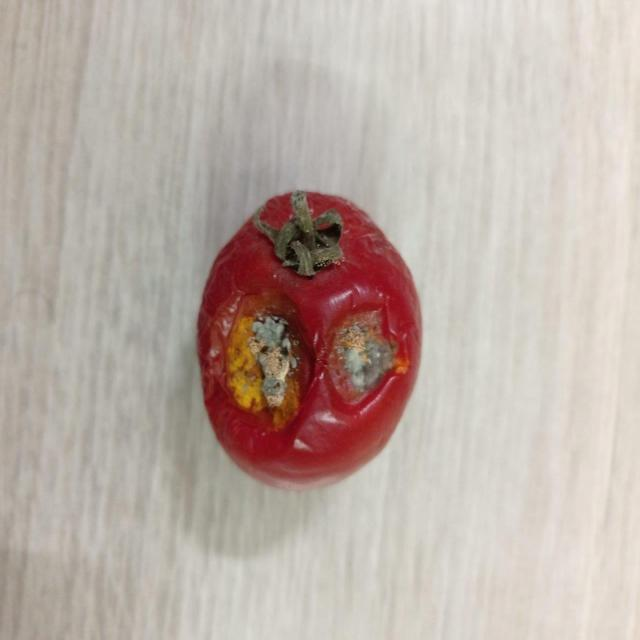Rotten: (195, 190, 422, 494)
